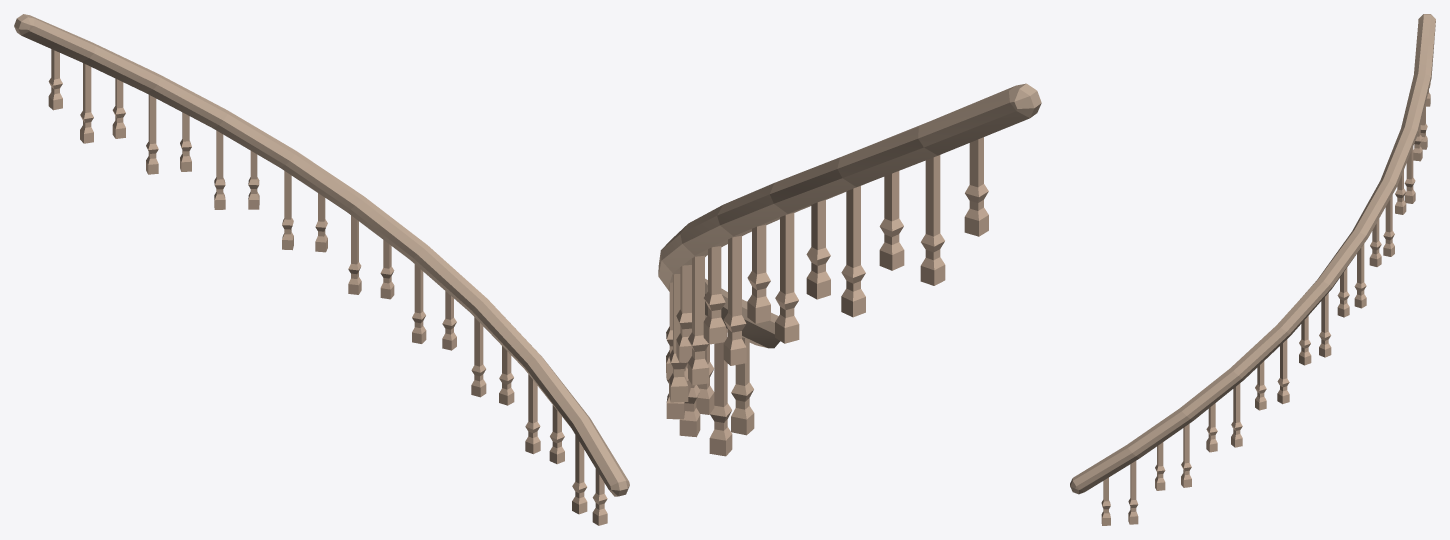
The model's file is Structure_Stairs_Railing_Rising_Curved_Outer.fbx.
The picture shows the model from 3 angles, left to right: view 1: azimuth 30°, elevation 25°; view 2: azimuth 150°, elevation 25°; view 3: azimuth 270°, elevation 25°; orthographic projection. The views are drawn at different scales.
Parts seen in each view (by area): view 1: object1.108; view 2: object1.108; view 3: object1.108.
Part boxes in pixels (bbox=[...]): object1.108: bbox=[14, 14, 629, 525]; object1.108: bbox=[658, 83, 1041, 456]; object1.108: bbox=[1070, 14, 1435, 525].
Size of the model in its own units: 210 by 230 by 210.
